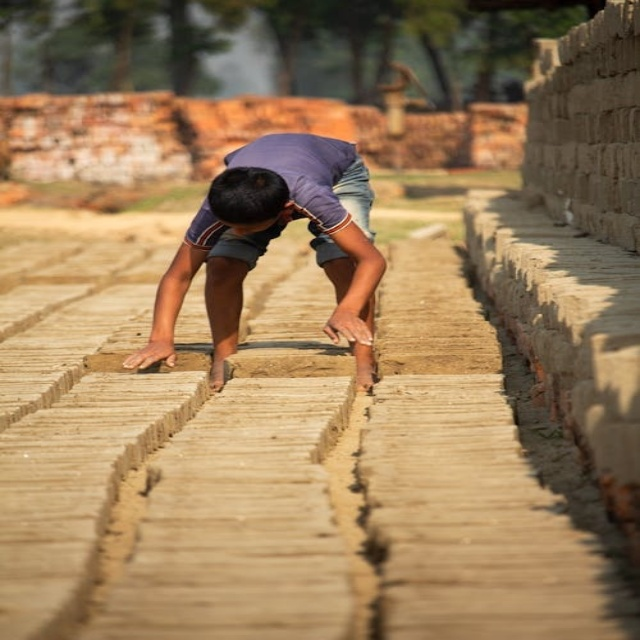Sin_guantes: (119, 339, 179, 372), (323, 312, 375, 348)
